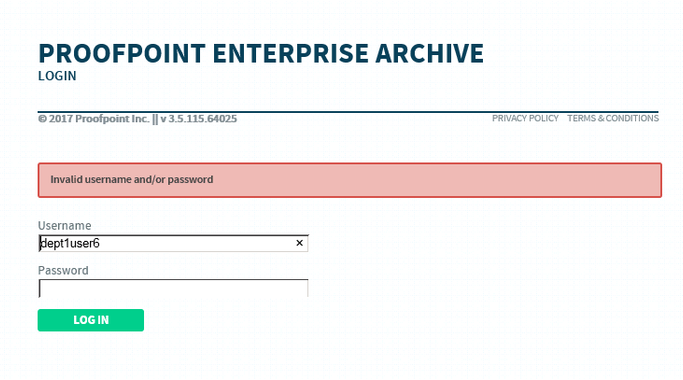error_field: (37, 162, 663, 198)
error_message: (48, 173, 223, 186)
